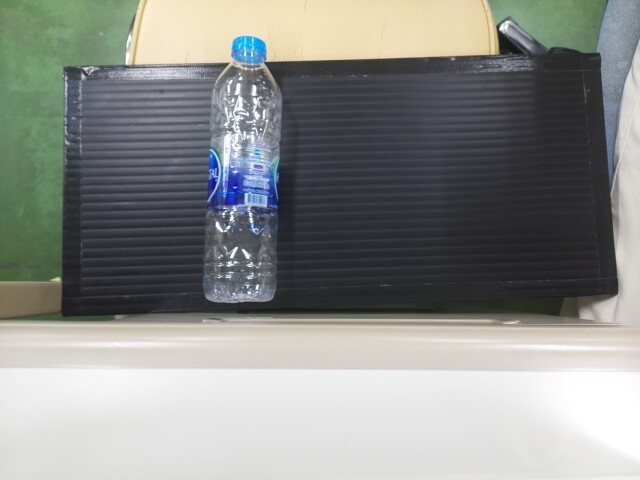plastic_bottle: (211, 35, 282, 301)
